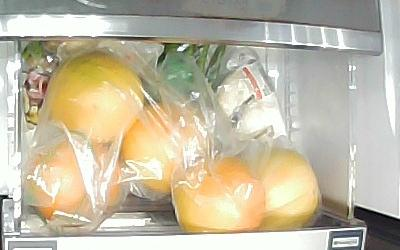grapefruit_vinyl: (124, 101, 215, 195), (49, 51, 142, 142), (29, 136, 121, 226), (173, 155, 267, 233), (254, 148, 319, 230)
